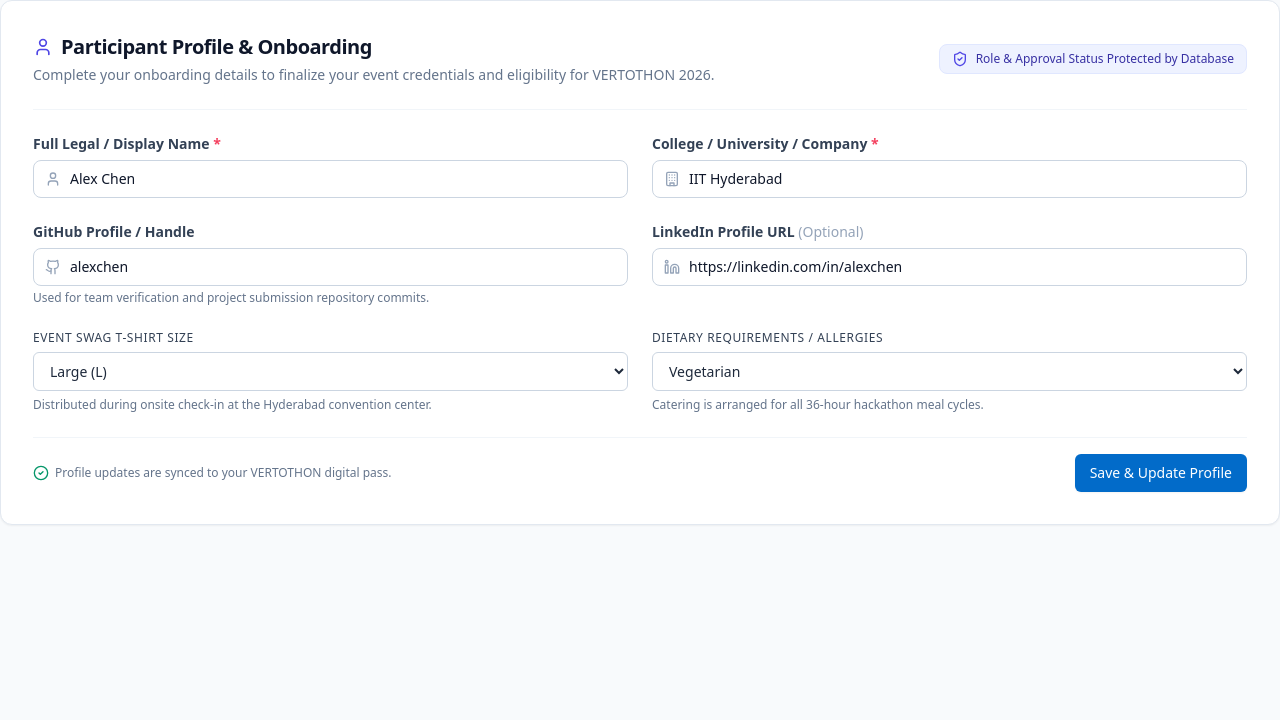
Phase 2 Task 3: Participant Onboarding and Organizer Review Workflows › ParticipantProfileForm › validates invalid GitHub handle formats
This screenshot has width=1280, height=720.
Replace the text in the field labelled "GitHub Profile / Handle" with "-invalid-github-user-name--" at (330, 267), box [33,248,628,286]
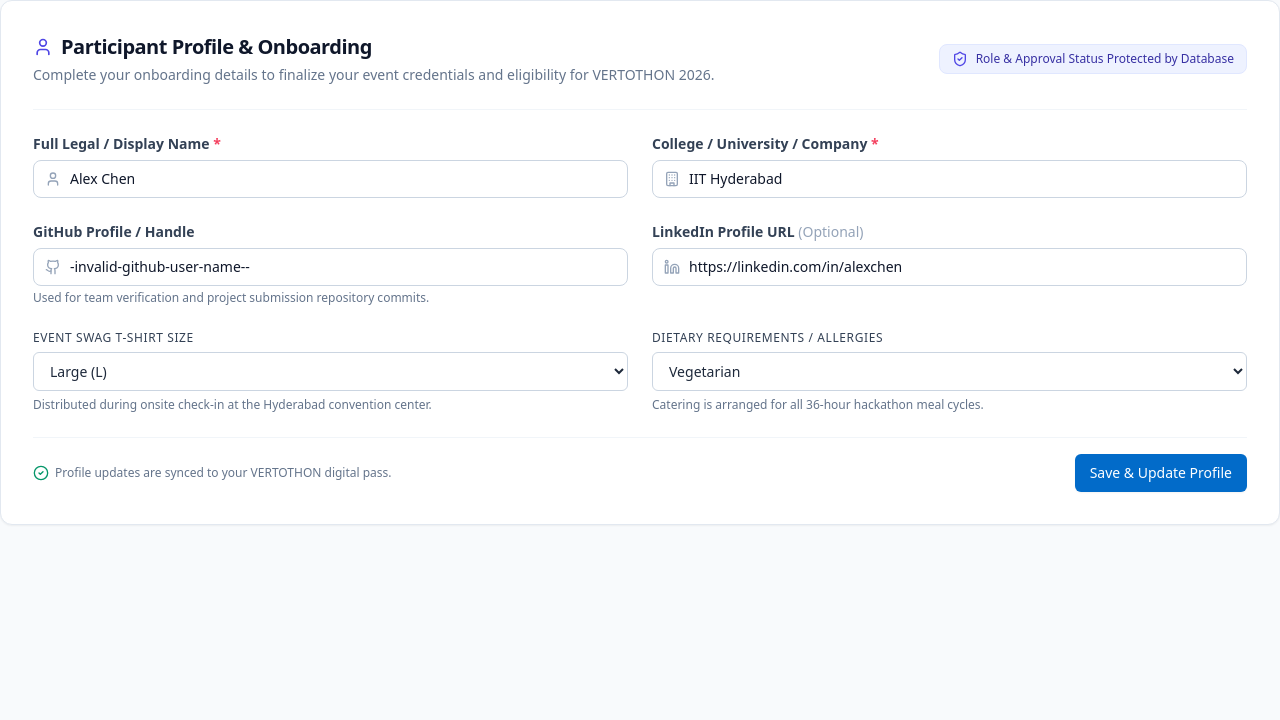
Click the button "Save & Update Profile" at (1161, 473), box [1075,454,1247,492]
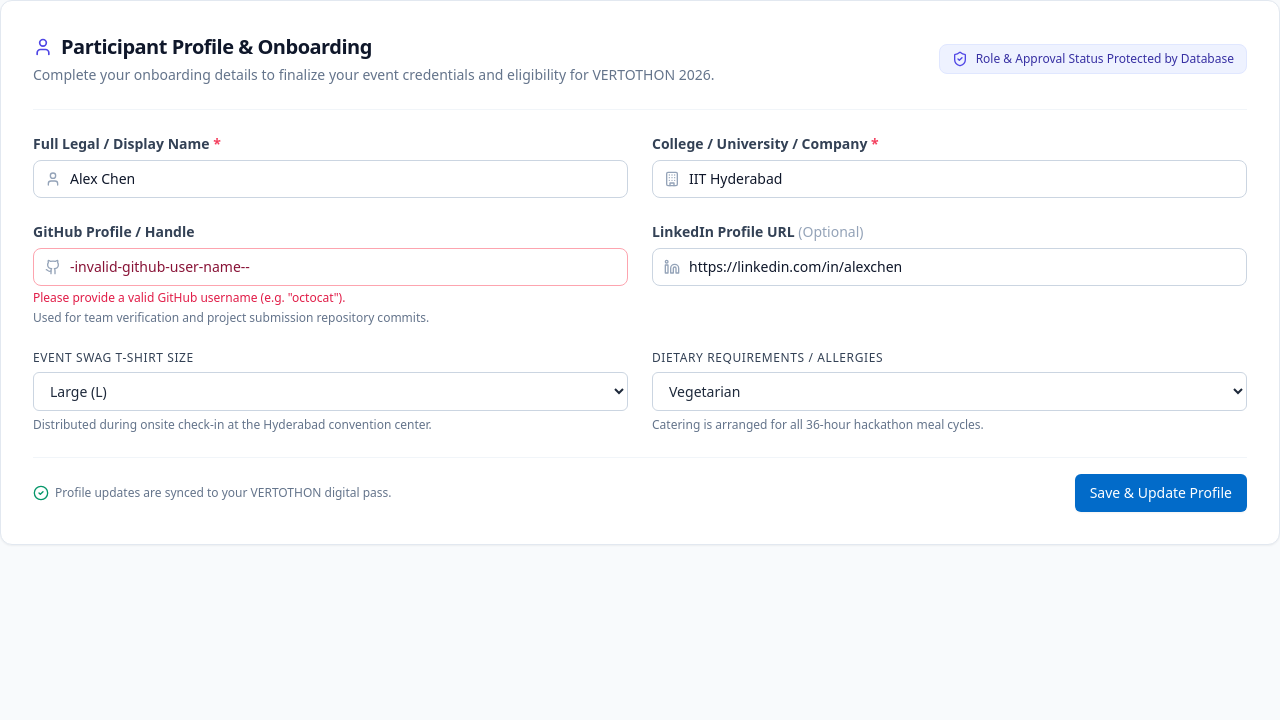
Check: the text "Please provide a valid GitHub username (e.g. \"octocat\")." is shown, box [33,289,345,306]
